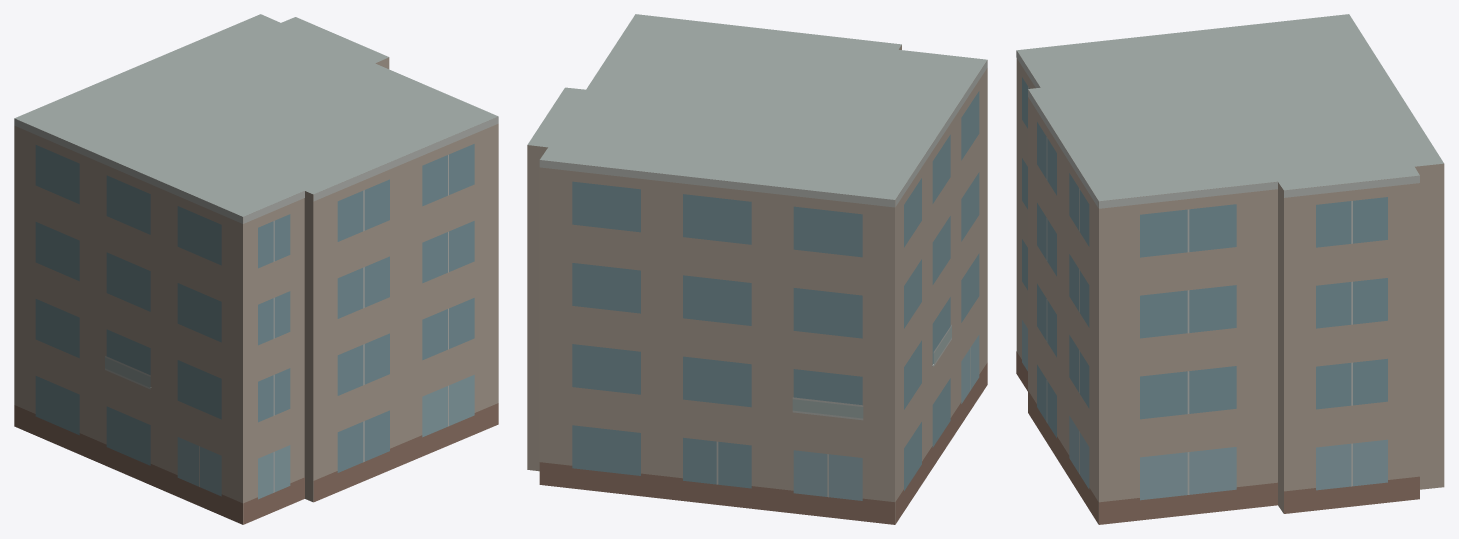
File: survey-upis-33009175.glb
The picture shows the model from 3 angles, left to right: view 1: azimuth 30°, elevation 25°; view 2: azimuth 150°, elevation 25°; view 3: azimuth 270°, elevation 25°; orthographic projection. The views are drawn at different scales.
Parts seen in each view (by area): view 1: survey-upis-33009175.tmp; view 2: survey-upis-33009175.tmp; view 3: survey-upis-33009175.tmp.
Boxes of the visible parts, box(x1,y1,x2,y2) form: survey-upis-33009175.tmp: box(14, 14, 498, 524); survey-upis-33009175.tmp: box(527, 14, 987, 524); survey-upis-33009175.tmp: box(1016, 14, 1444, 524).
Bounding box in the file's own units: 13.04 × 10.5 × 12.59.
